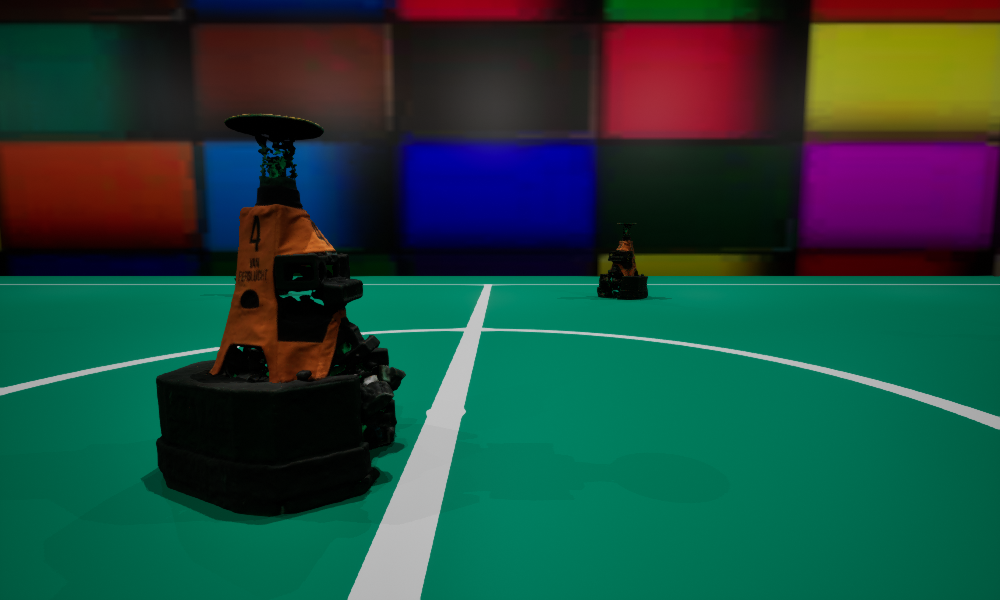0 orange robot TechUnited: (156, 114, 405, 516), (597, 223, 647, 298), (234, 278, 287, 294)
